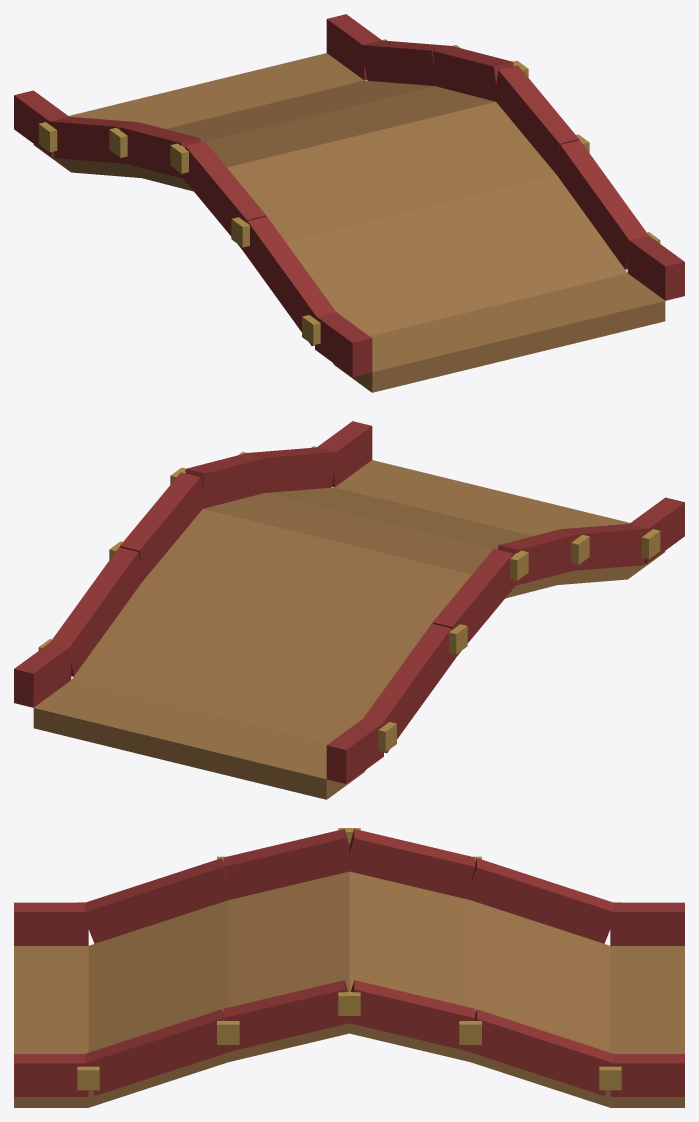
The model's file is PirateCove_BankRamp_Standard.glb.
The picture shows the model from 3 angles, top to bottom: view 1: azimuth 30°, elevation 25°; view 2: azimuth 150°, elevation 25°; view 3: azimuth 270°, elevation 25°; orthographic projection.
Visible parts, largest first — view 1: PirateCove_BankRamp_Standard; view 2: PirateCove_BankRamp_Standard; view 3: PirateCove_BankRamp_Standard.
Boxes of the visible parts, left/top/right/bottom form: PirateCove_BankRamp_Standard: left=14, top=14, right=684, bottom=392; PirateCove_BankRamp_Standard: left=14, top=421, right=684, bottom=799; PirateCove_BankRamp_Standard: left=14, top=828, right=684, bottom=1107.
Bounding box in the file's own units: 2.13 × 0.7567 × 3.6.
